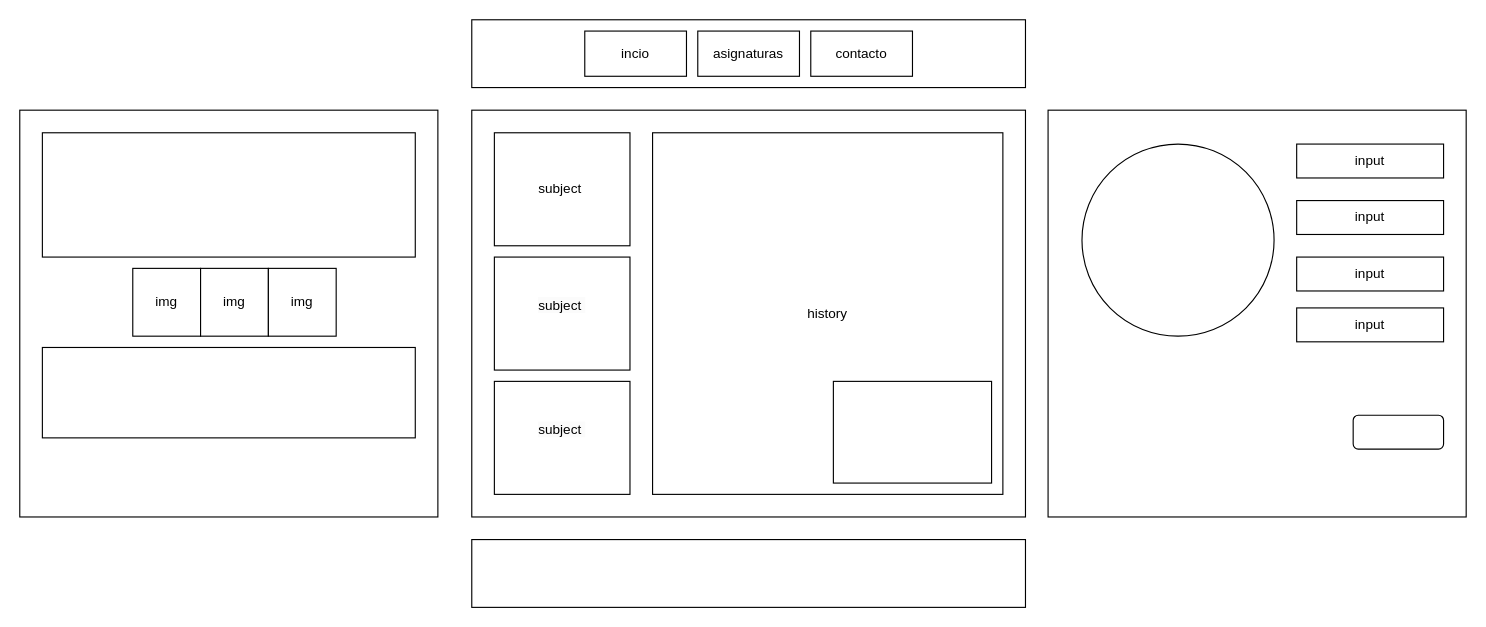
This 1486x627 diagram has some shape labels left out. Each missing label, with the centre of its shape:
"button" belongs at point (1398, 431).
"Carrousel" belongs at point (228, 194).
"footer" belongs at point (748, 572).
"Frequency Questions" belongs at point (228, 392).
"map" belongs at point (1177, 239).
"student" belongs at point (912, 431).
